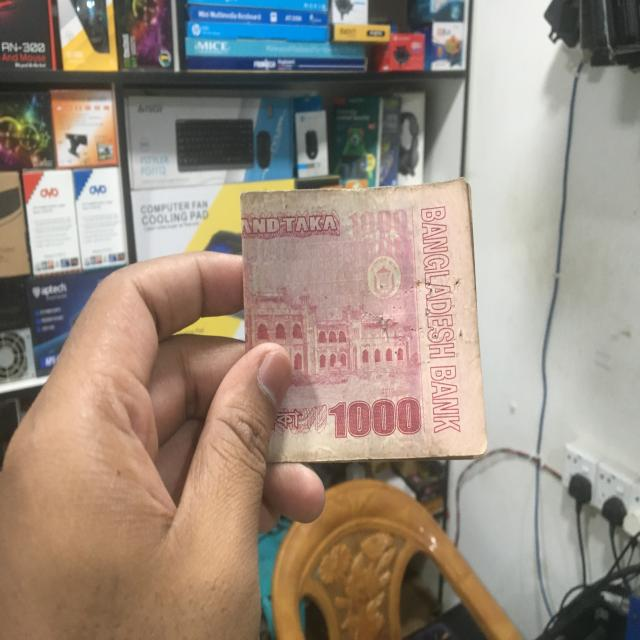Taka: (242, 187, 487, 456)
